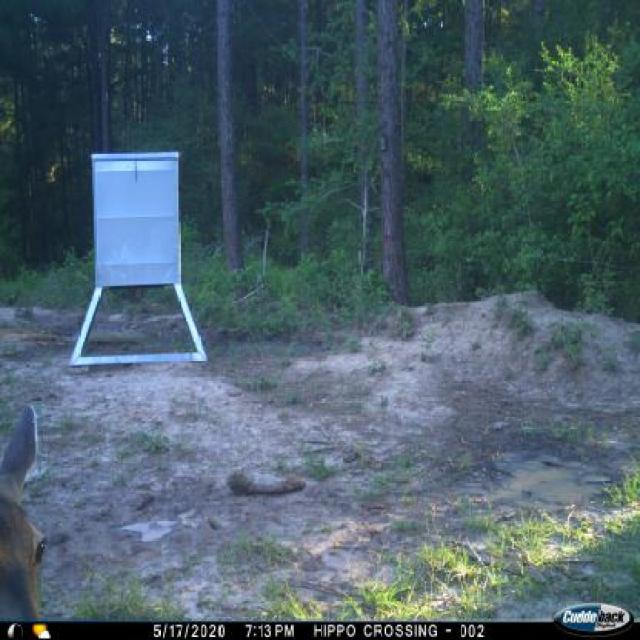Deer: (0, 398, 52, 619)
